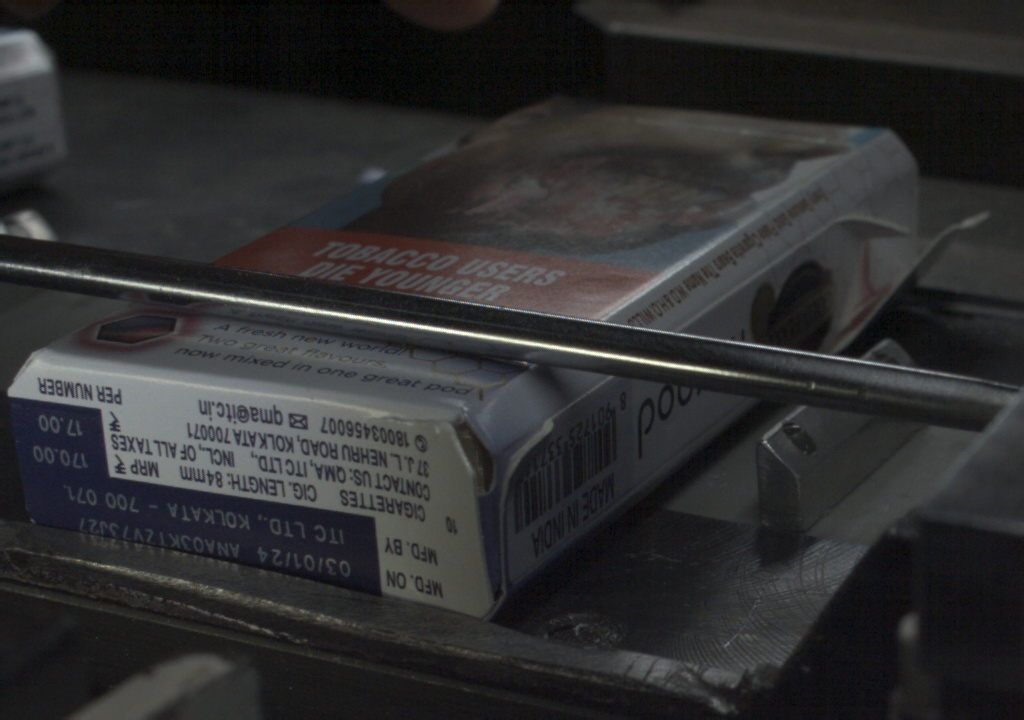g_label: (19, 474, 380, 598)
ng_bottom: (422, 409, 502, 616)
ng_lmiter: (496, 420, 551, 496), (840, 205, 907, 250)
ng_miter: (908, 153, 969, 262)
price: (18, 404, 108, 475)
